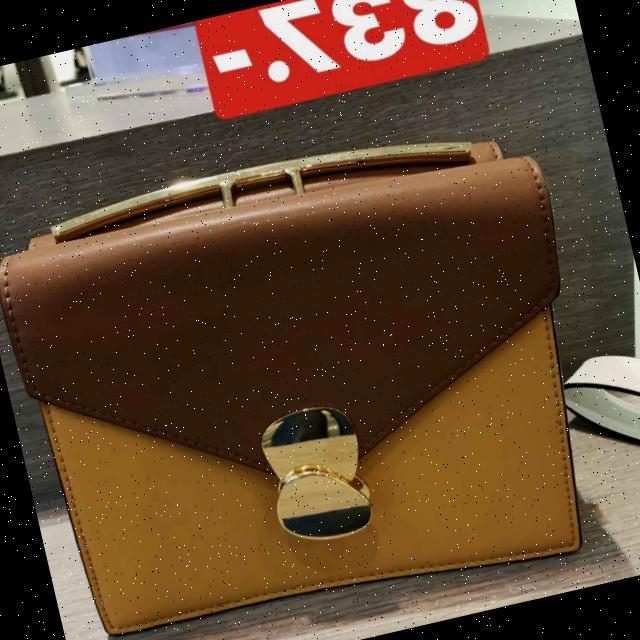Handbag: (0, 98, 630, 640)
